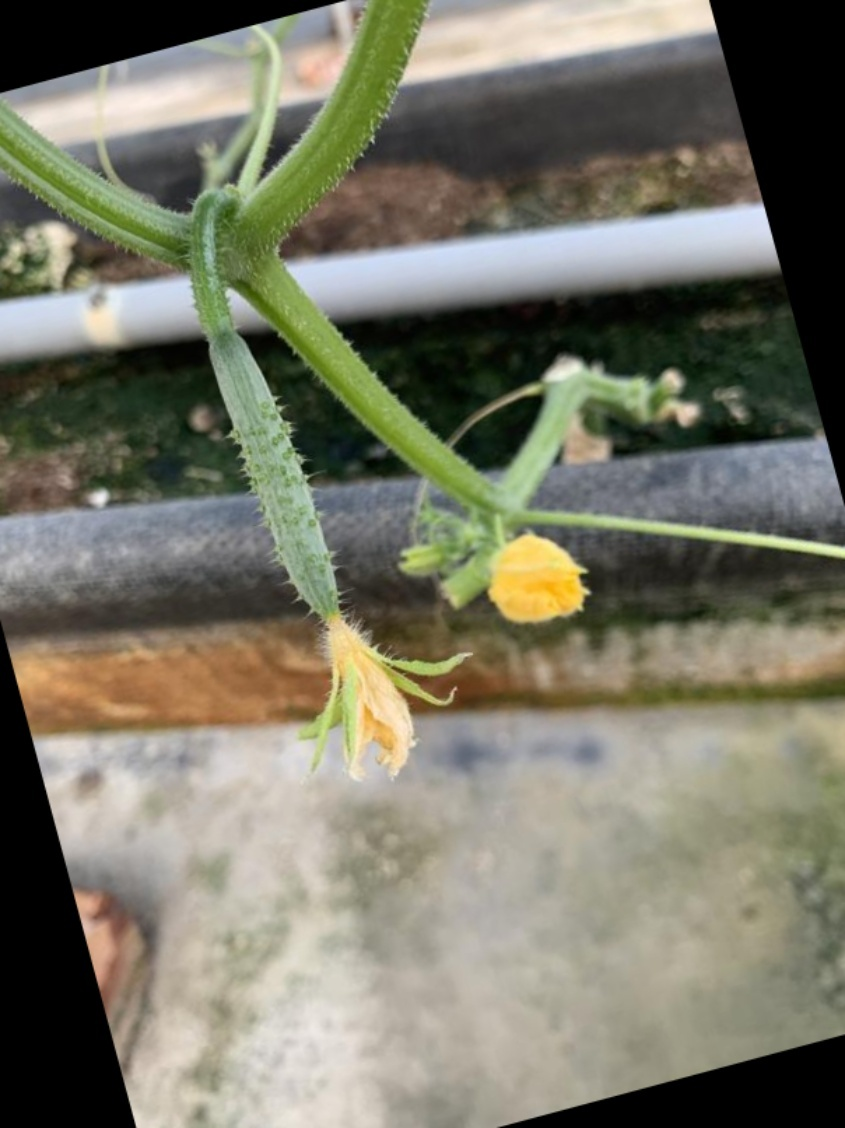bear: (172, 271, 460, 791)
